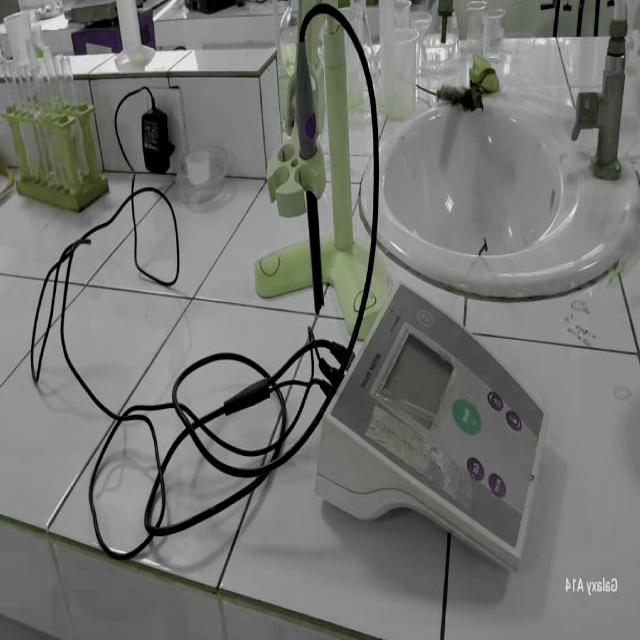PH meter: (278, 154, 562, 562)
